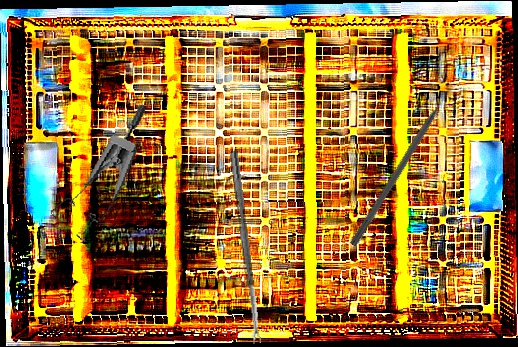Pusher: (349, 82, 458, 248)
Speculum: (45, 90, 149, 249)
Surgical Spoon: (228, 150, 262, 345)
